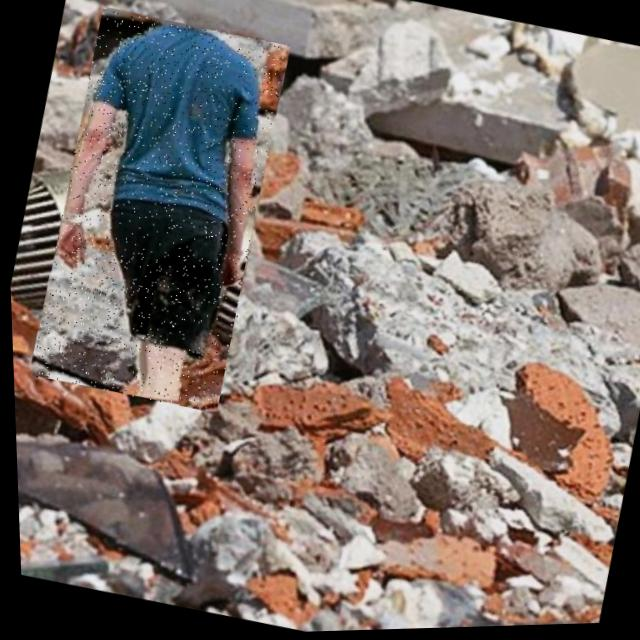Person in Rubble: (17, 3, 300, 419)
